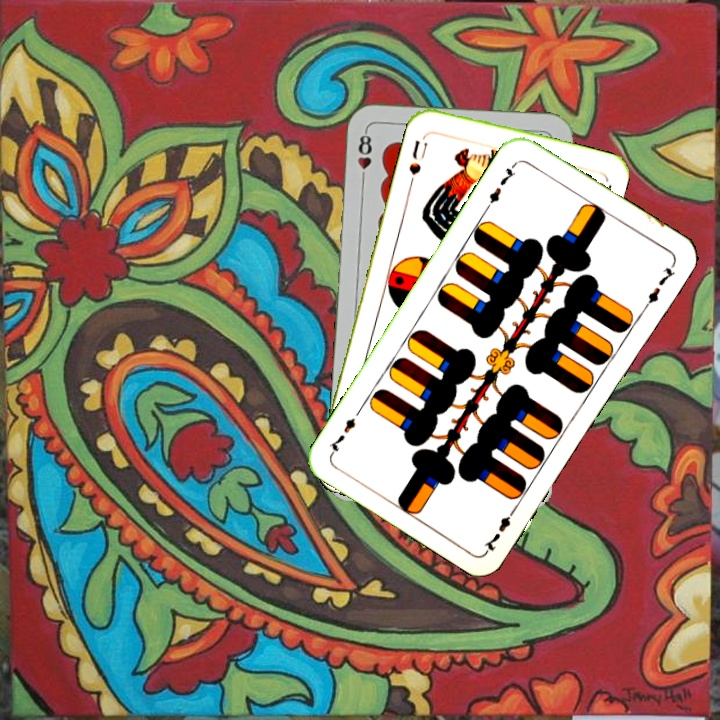E7: (480, 502, 520, 554), (482, 159, 520, 212)
H8: (354, 126, 375, 185)
SU: (404, 129, 434, 178)
